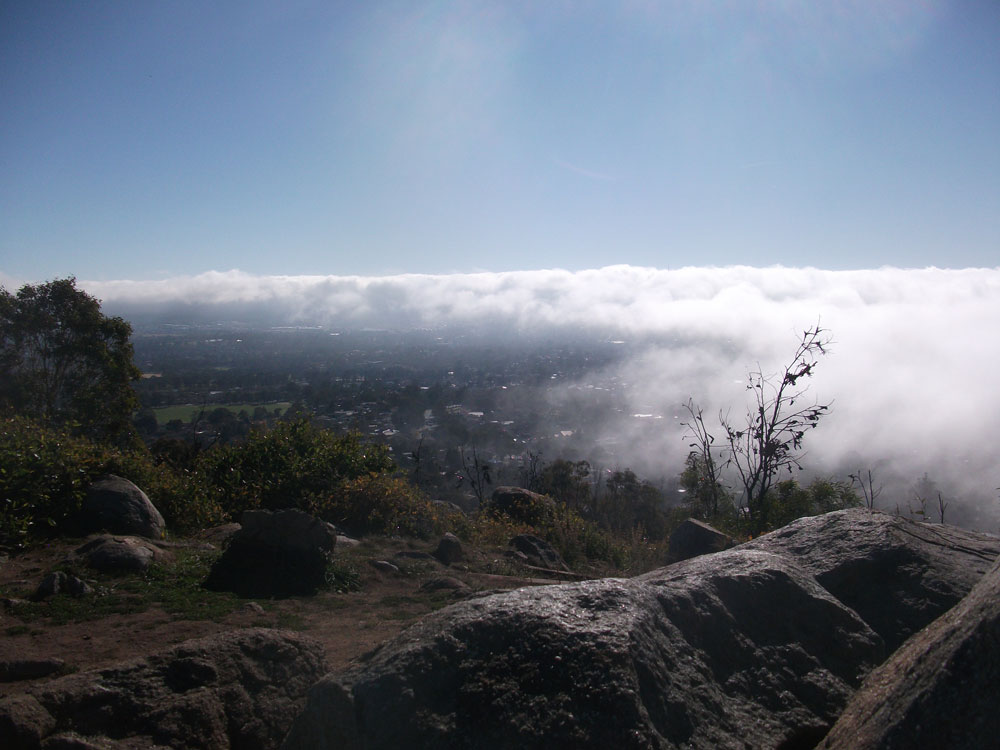Stratus: (68, 230, 1000, 356)
